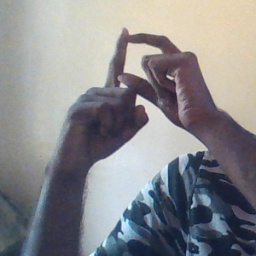D: (88, 24, 198, 125)
